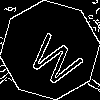W: (25, 25, 90, 90)
